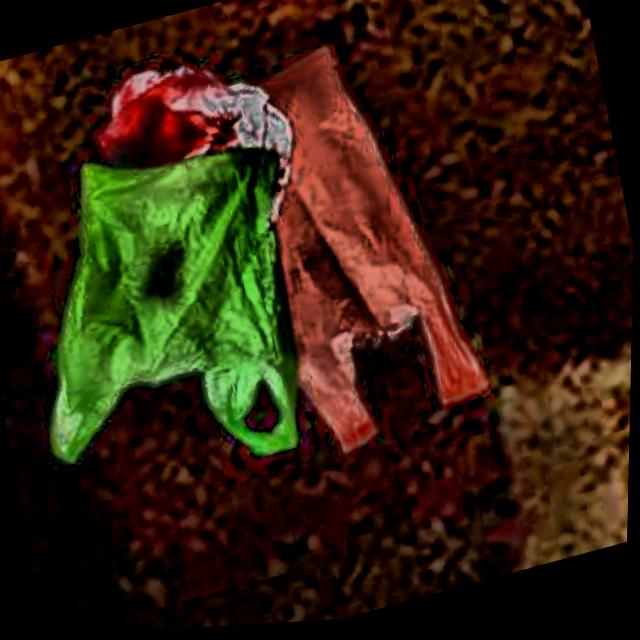Plastic: (142, 17, 515, 493), (0, 112, 341, 520), (82, 43, 328, 281)
